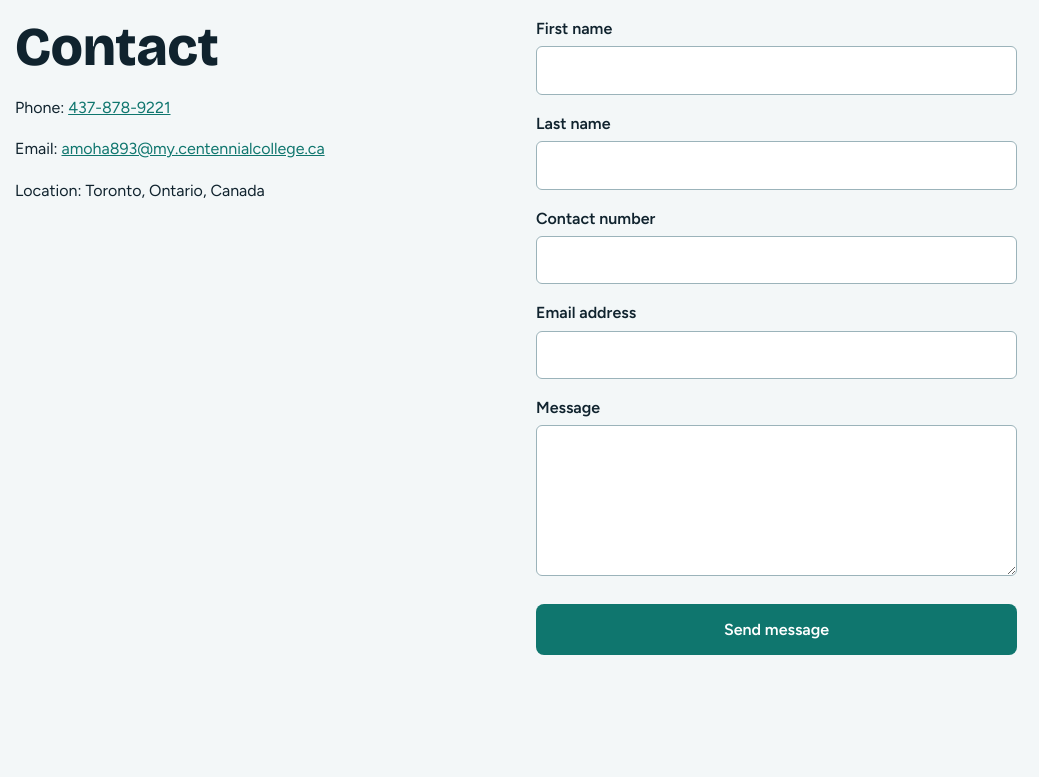
Test: Contact form › rejects an invalid phone number and email without sending
Type "abc" into the field labelled "Contact number".
click(776, 260); type("abc")  # box [536,236,1017,284]
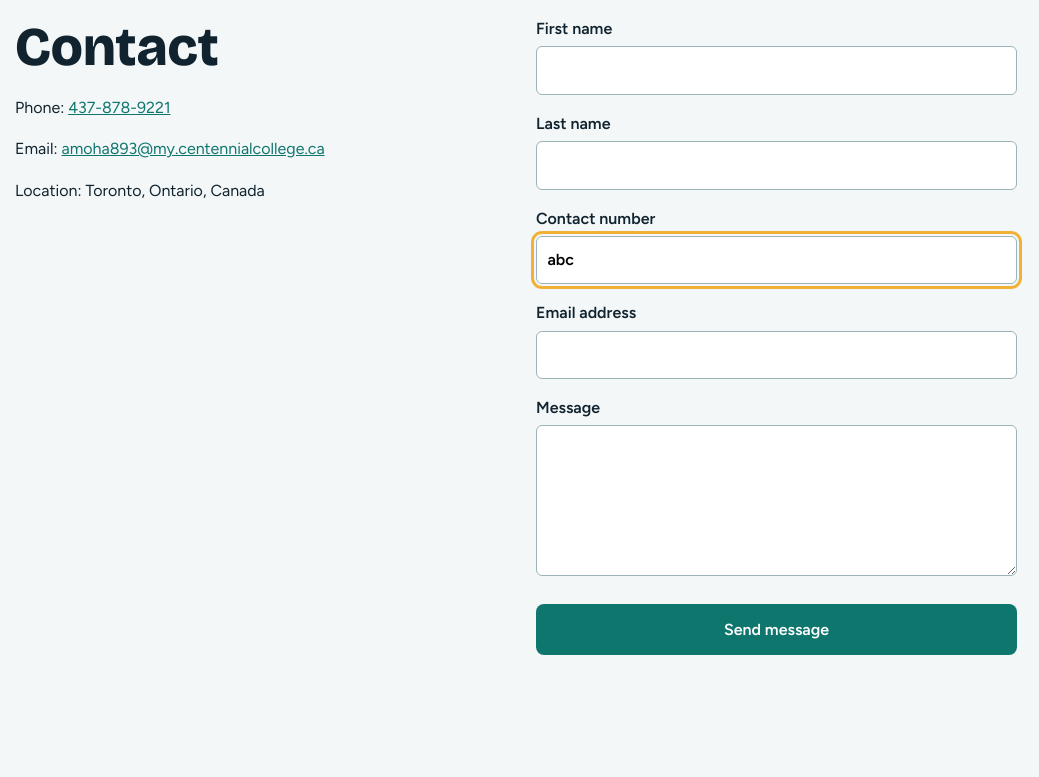
Type "sara@" into the field labelled "Email address".
click(776, 355); type("sara@")  # box [536,331,1017,379]
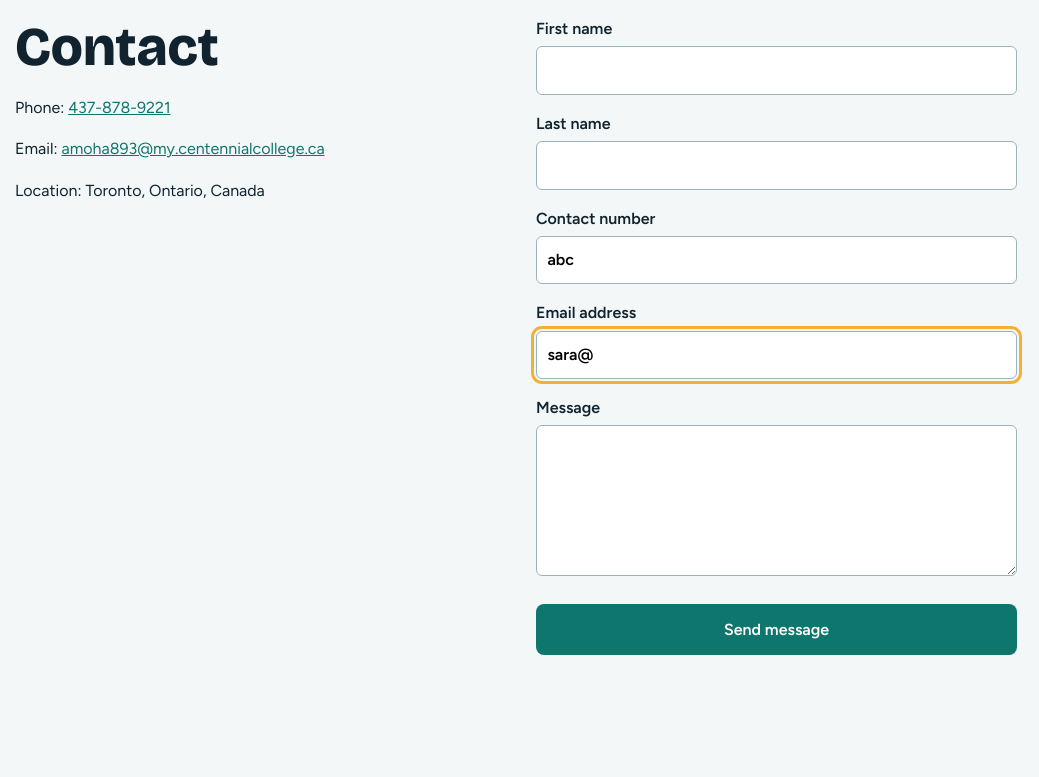
Click the button "Send message".
click(776, 630)  # box [536,604,1017,655]
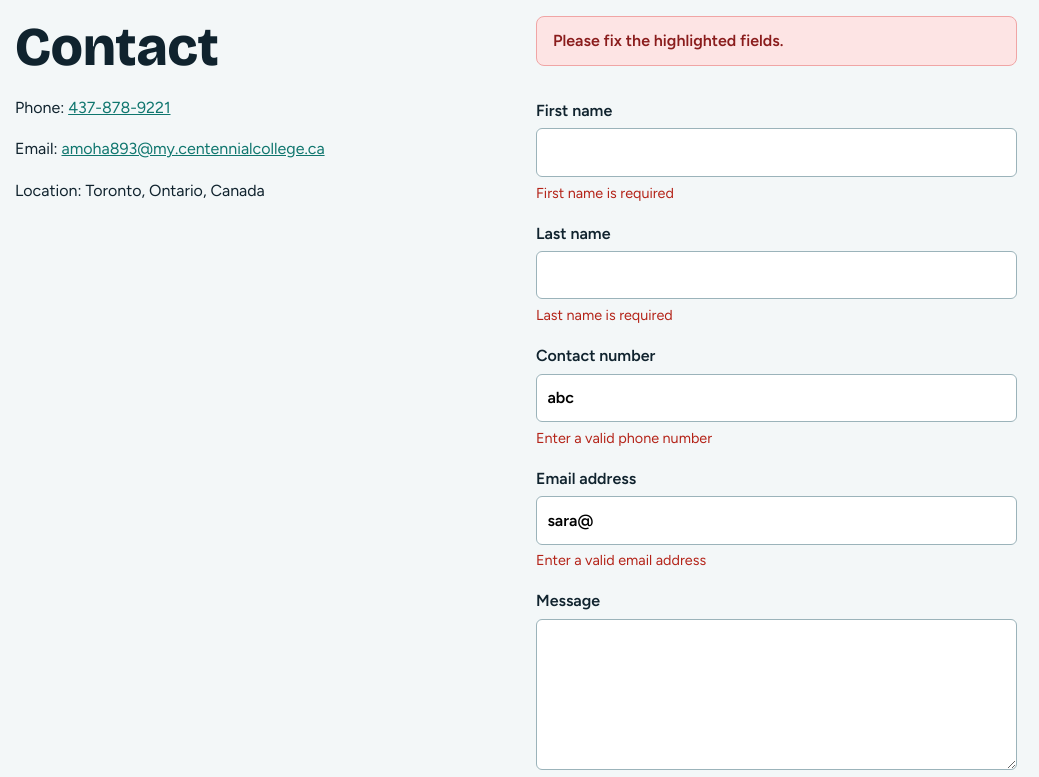
Result: the text "Enter a valid phone number" is shown at [536,429,712,447]
Result: the text "Enter a valid email address" is shown at [536,551,706,569]
